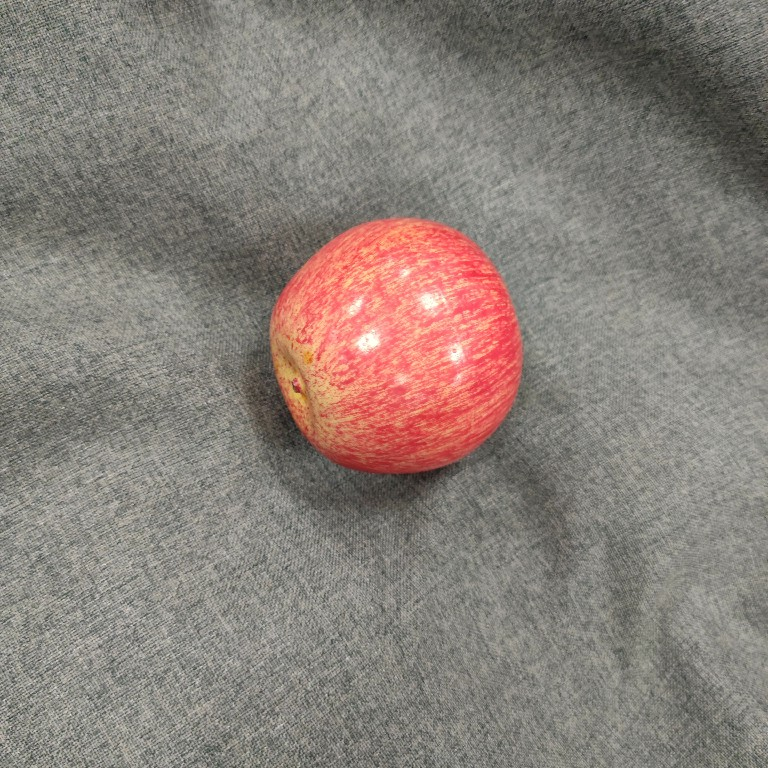fruit_apple: (259, 213, 533, 478)
